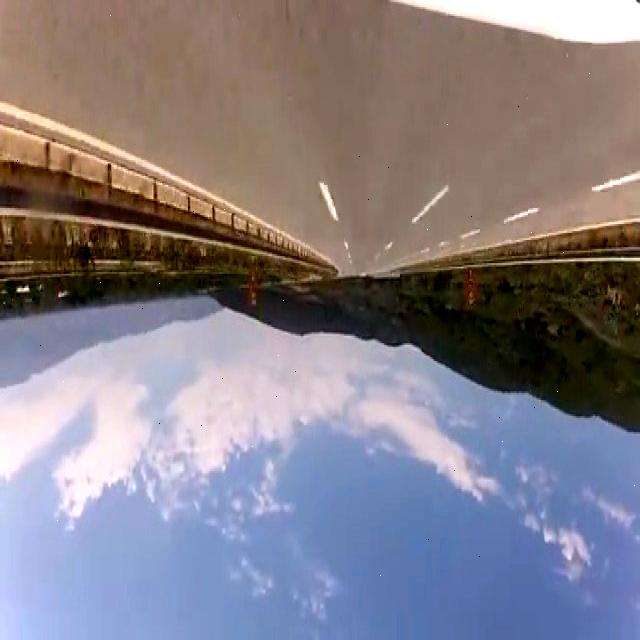lane: (0, 101, 215, 199), (411, 186, 449, 224), (318, 181, 337, 222)
road: (0, 4, 639, 276)
